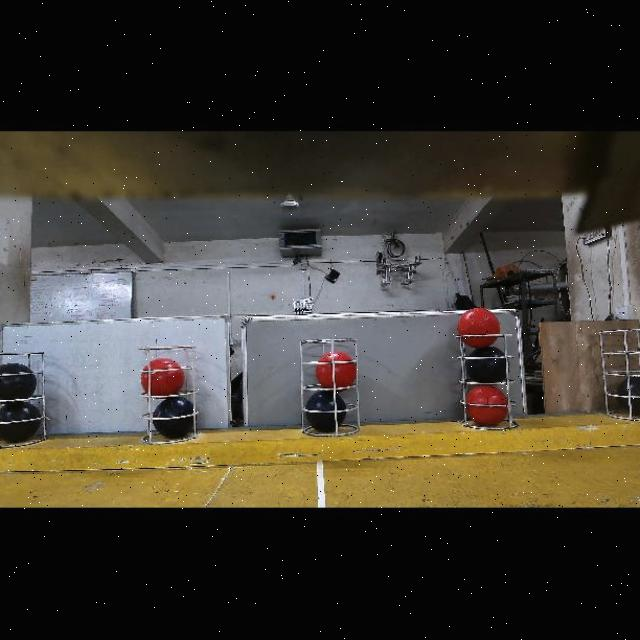P: (152, 396, 194, 438), (0, 401, 41, 442), (306, 390, 346, 431), (467, 345, 509, 382), (0, 362, 36, 399), (616, 376, 640, 414)
R: (458, 307, 501, 347), (467, 385, 507, 425), (141, 358, 185, 394), (315, 351, 356, 387)
S: (296, 338, 364, 437), (454, 332, 520, 433), (138, 343, 202, 442), (0, 347, 52, 448), (600, 322, 640, 423)
